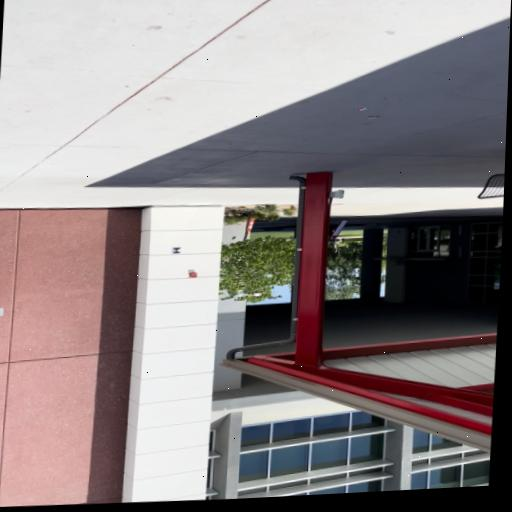target2: (171, 248, 182, 254)
